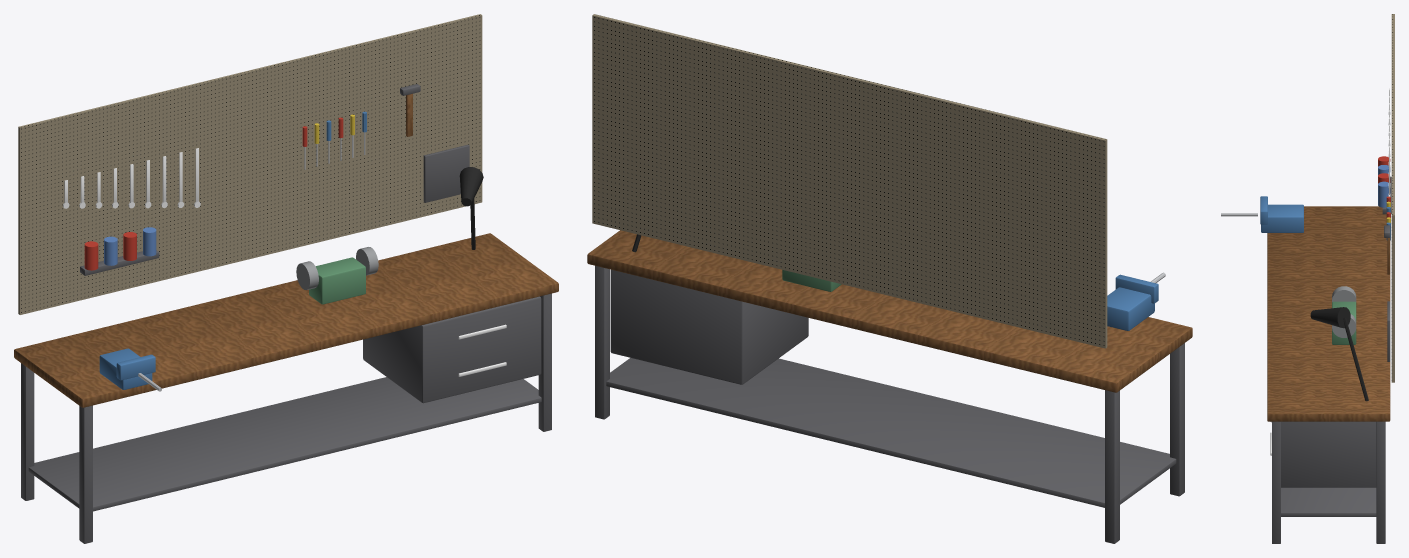
Rendered from g_bench.fbx.
The picture shows the model from 3 angles, left to right: view 1: azimuth 30°, elevation 25°; view 2: azimuth 150°, elevation 25°; view 3: azimuth 270°, elevation 25°; orthographic projection. The views are drawn at different scales.
Parts seen in each view (by area): view 1: g_bench_pegboard, g_bench_darksteel, g_bench_wood, g_bench_chrome, g_bench_green, g_bench_blue, g_bench_red, g_bench_engine, g_bench_black, g_bench_oilcan; view 2: g_bench_pegboard, g_bench_darksteel, g_bench_wood, g_bench_blue; view 3: g_bench_wood, g_bench_darksteel, g_bench_pegboard, g_bench_blue, g_bench_black, g_bench_engine, g_bench_green, g_bench_oilcan, g_bench_red, g_bench_chrome.
Part boxes in pixels (bbox=[...]): g_bench_pegboard: bbox=[18, 14, 482, 314]; g_bench_darksteel: bbox=[21, 84, 551, 543]; g_bench_wood: bbox=[14, 93, 558, 407]; g_bench_chrome: bbox=[63, 148, 506, 376]; g_bench_green: bbox=[309, 257, 365, 304]; g_bench_blue: bbox=[99, 111, 366, 389]; g_bench_red: bbox=[84, 117, 343, 270]; g_bench_engine: bbox=[296, 247, 378, 289]; g_bench_black: bbox=[459, 167, 483, 249]; g_bench_oilcan: bbox=[104, 227, 156, 265]; g_bench_pegboard: bbox=[592, 14, 1107, 348]; g_bench_darksteel: bbox=[595, 265, 1184, 543]; g_bench_wood: bbox=[587, 230, 1192, 392]; g_bench_blue: bbox=[1107, 274, 1158, 330]; g_bench_wood: bbox=[1267, 206, 1390, 421]; g_bench_darksteel: bbox=[1272, 176, 1391, 543]; g_bench_pegboard: bbox=[1391, 14, 1394, 382]; g_bench_blue: bbox=[1260, 196, 1390, 240]; g_bench_black: bbox=[1310, 307, 1368, 401]; g_bench_engine: bbox=[1332, 286, 1356, 337]; g_bench_green: bbox=[1332, 301, 1356, 344]; g_bench_oilcan: bbox=[1378, 165, 1390, 207]; g_bench_red: bbox=[1378, 156, 1390, 217]; g_bench_chrome: bbox=[1270, 88, 1390, 455].
Bounding box in the file's own units: 3.2 × 2.35 × 1.13.
Materials: 12 (2 with a texture image).
